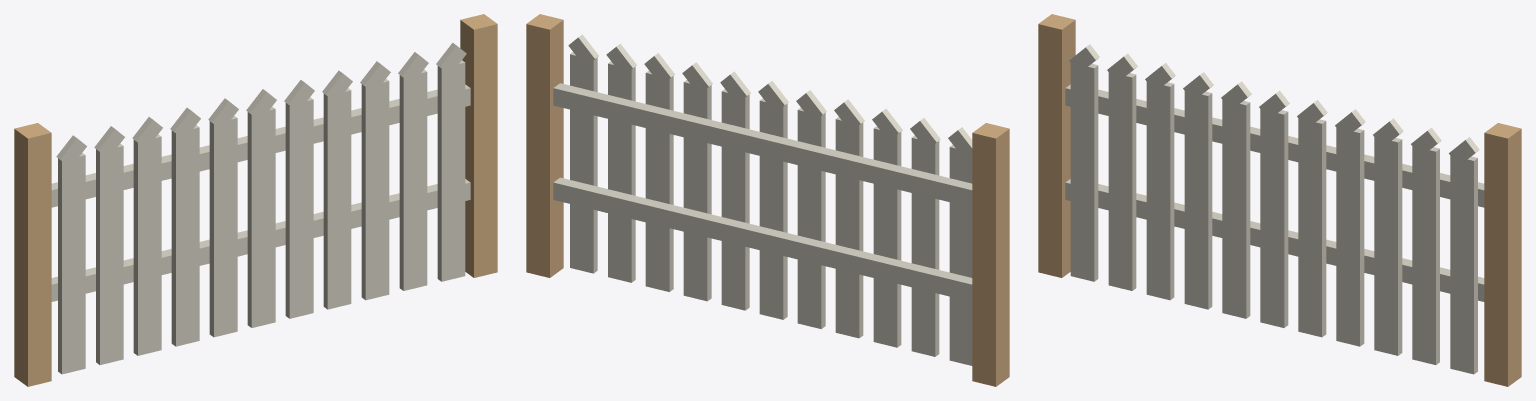
Rendered from lawn-mowing-simulator-kit-picket-fence-run-2m-5d1c984e__27388.glb.
The picture shows the model from 3 angles, left to right: view 1: azimuth 30°, elevation 25°; view 2: azimuth 150°, elevation 25°; view 3: azimuth 330°, elevation 25°; orthographic projection.
Visible parts, largest first — view 1: picket-fence-run-2m; view 2: picket-fence-run-2m; view 3: picket-fence-run-2m.
Boxes of the visible parts, bbox=[...] form: picket-fence-run-2m: bbox=[14, 14, 497, 386]; picket-fence-run-2m: bbox=[526, 14, 1009, 386]; picket-fence-run-2m: bbox=[1038, 14, 1521, 386].
Size of the model in its own units: 1.98 by 1 by 0.1065.
